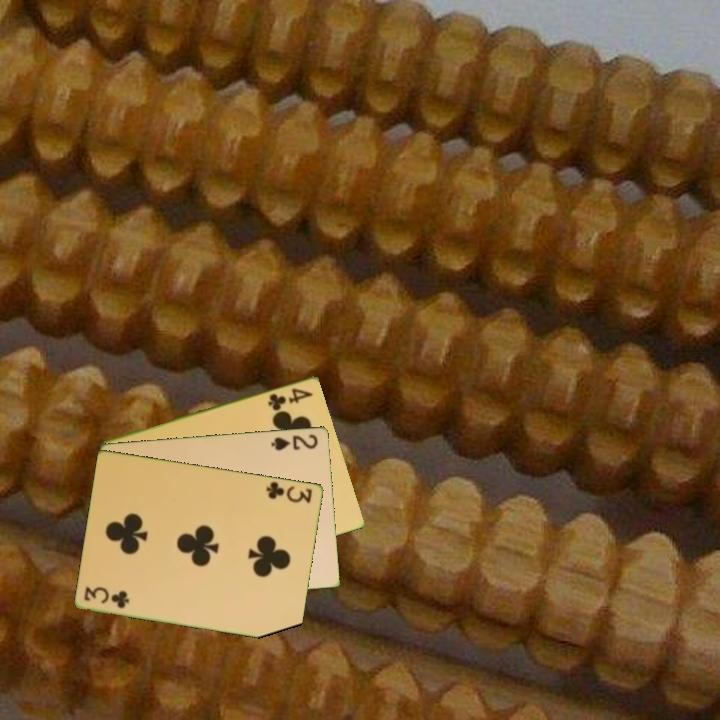2s: (268, 430, 321, 453)
3c: (263, 478, 315, 506), (81, 583, 132, 611)
4c: (264, 384, 316, 413)
